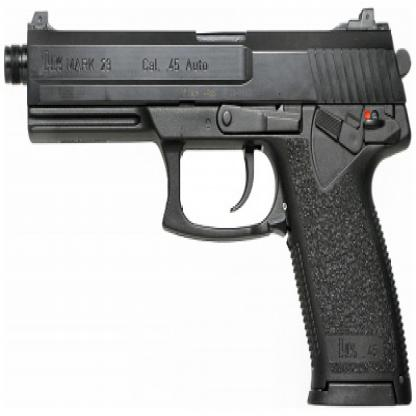Guns: (1, 5, 415, 409)
